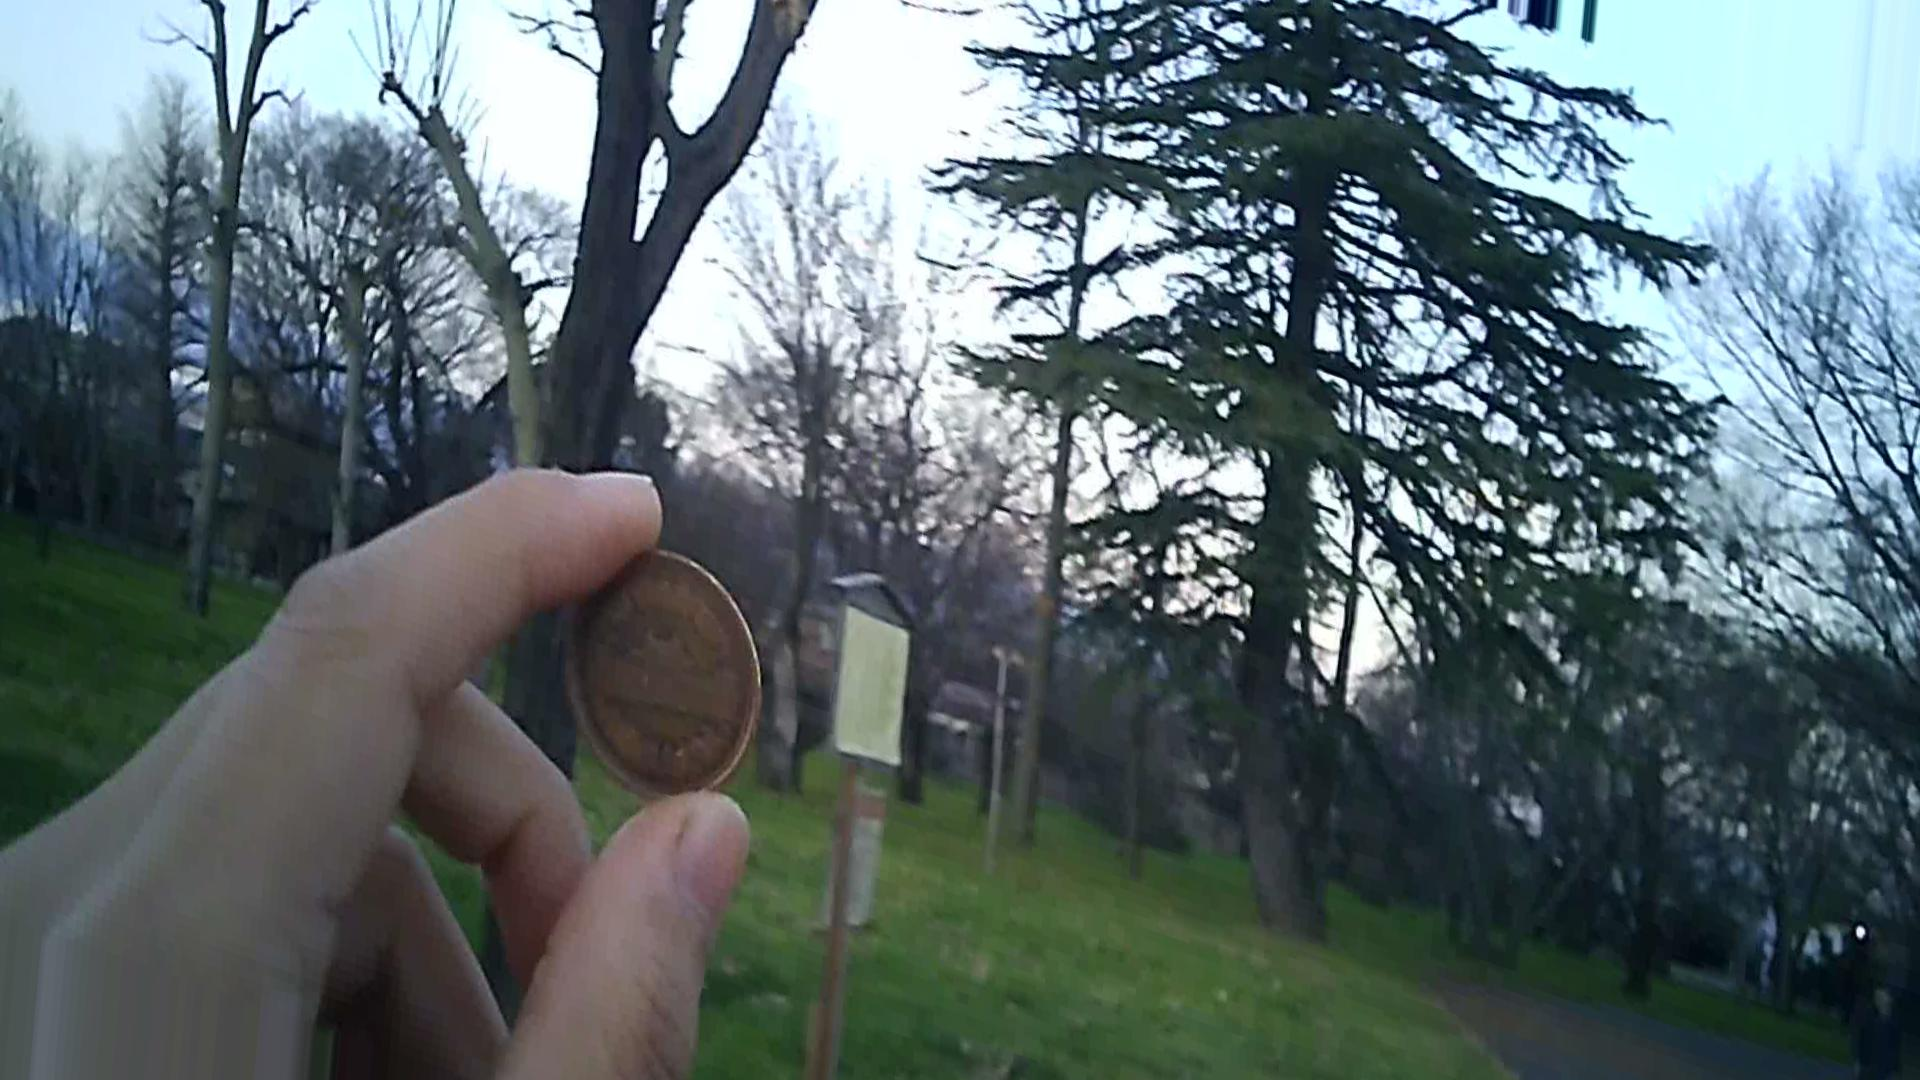10 Yen: (547, 553, 752, 808)
